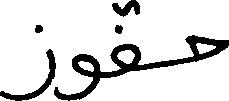X: (0, 20, 55, 100), (112, 0, 139, 81), (57, 49, 99, 100), (190, 30, 228, 66)
